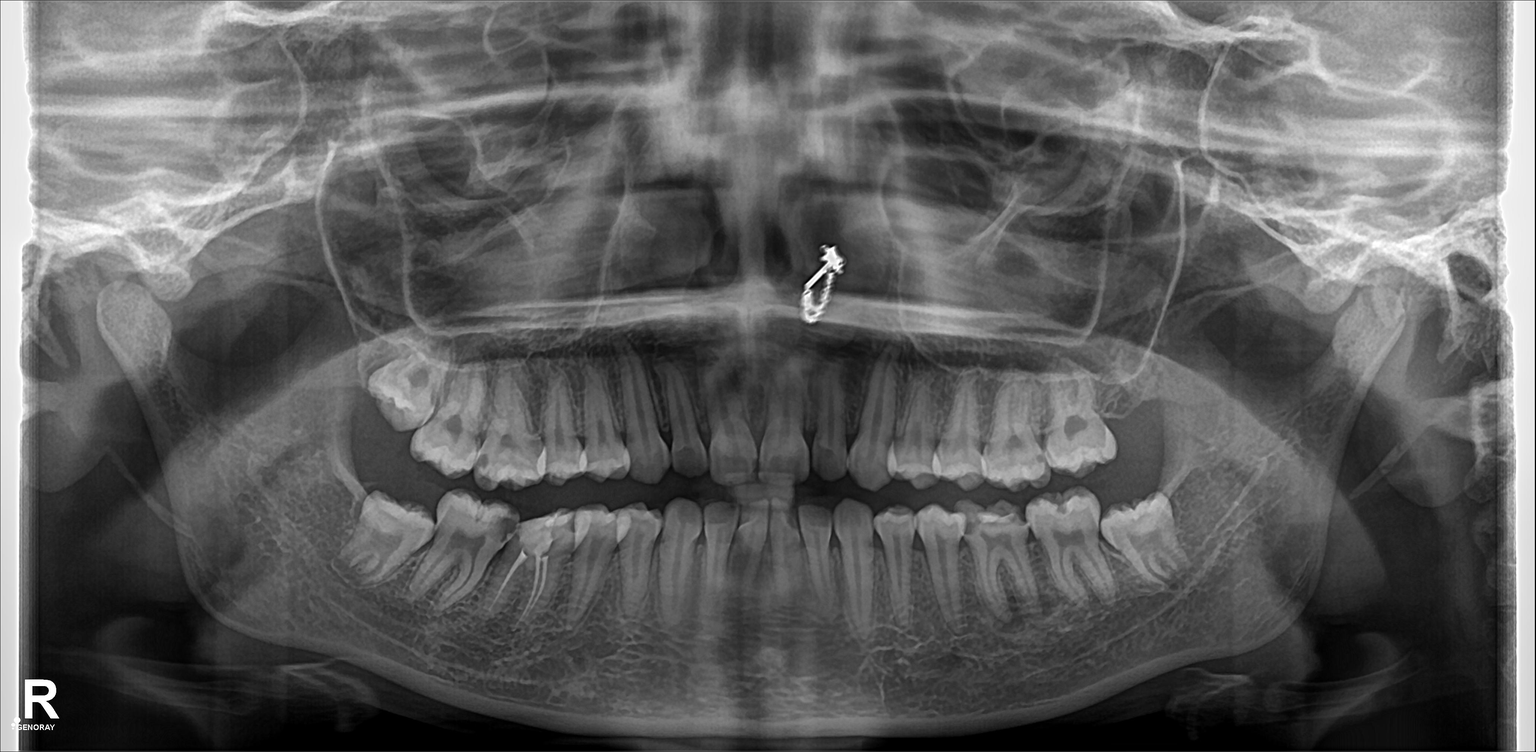Dental Caries: (484, 508, 518, 547), (670, 447, 705, 475)
Endodontically Treated Tooth: (502, 516, 553, 623)
Impacted Third Molar: (331, 497, 423, 584), (1108, 493, 1192, 582), (348, 357, 439, 425)
Missing Tooth: (1102, 359, 1162, 463)
